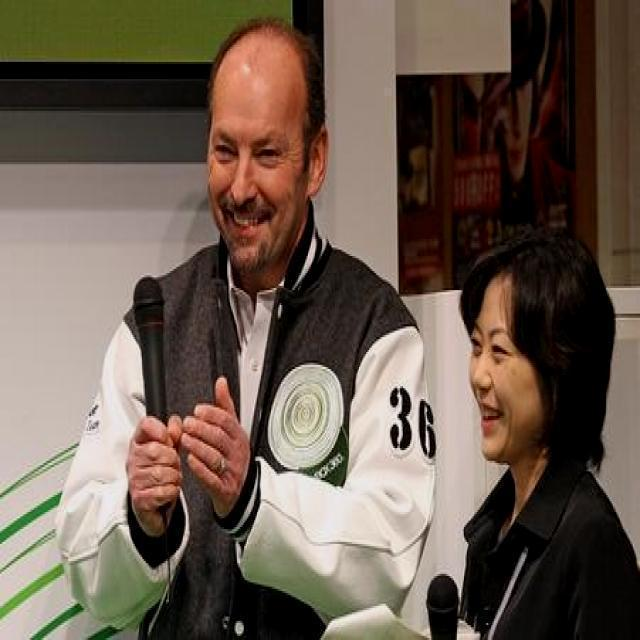no_vest: (77, 239, 439, 640), (461, 462, 640, 640)
